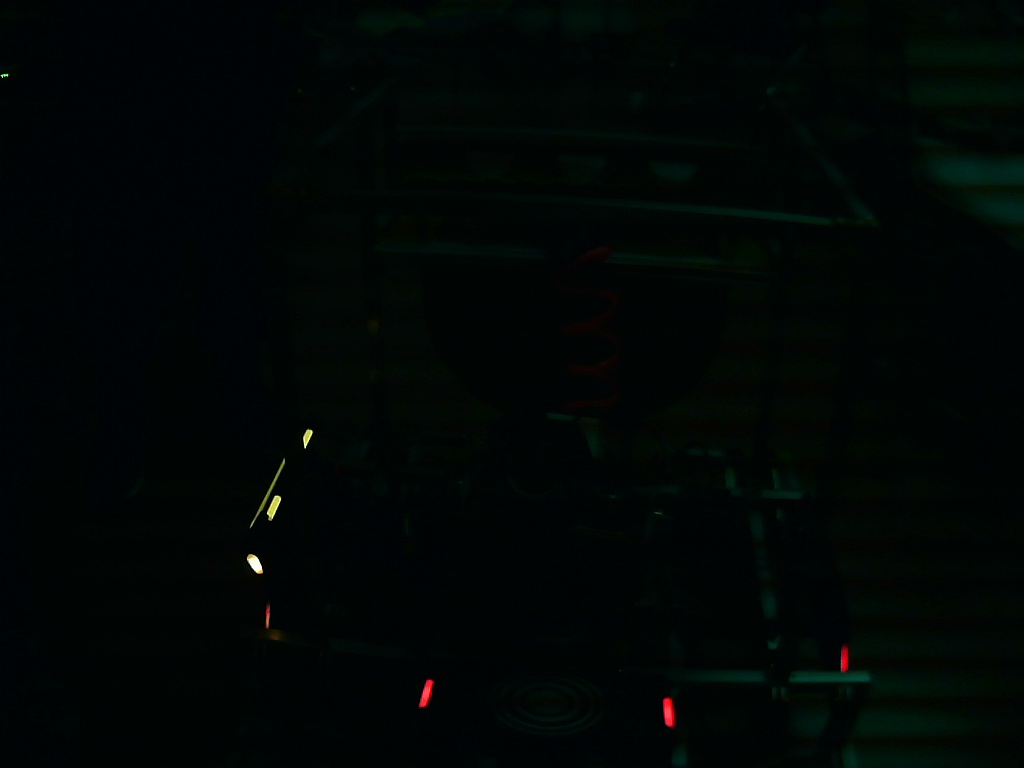lamp: (655, 695, 678, 731), (418, 677, 433, 708)
